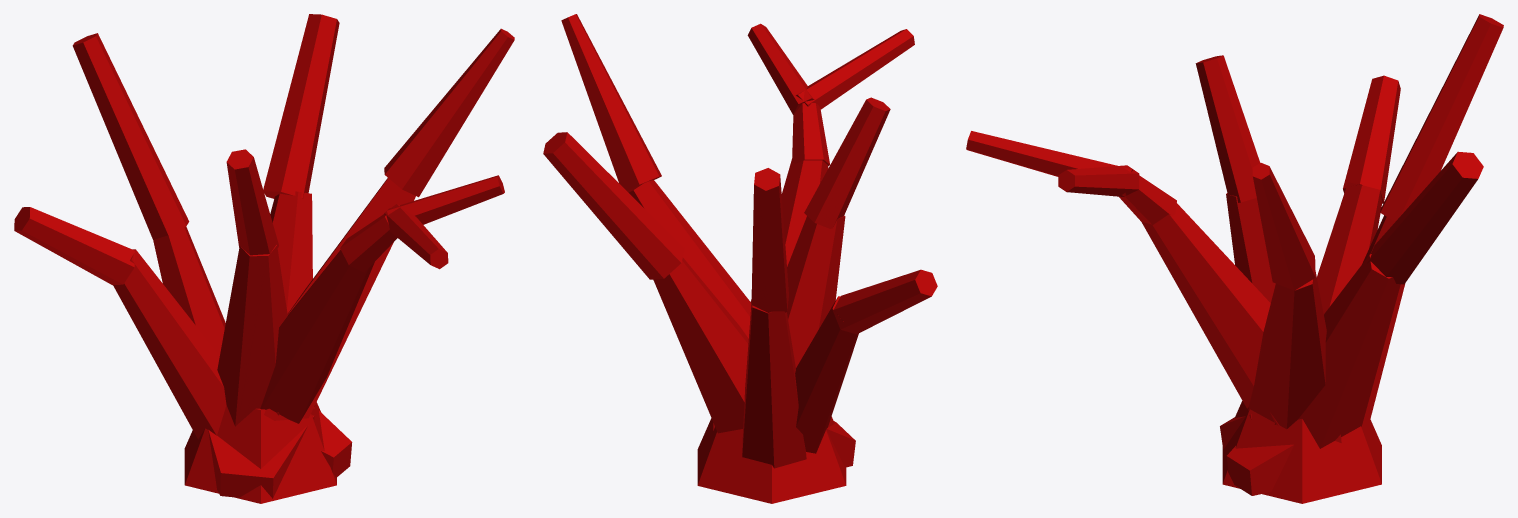
The model's file is SM_Env_Tree_Pohutukawa_02_Collision.gltf.
The picture shows the model from 3 angles, left to right: view 1: azimuth 30°, elevation 25°; view 2: azimuth 150°, elevation 25°; view 3: azimuth 270°, elevation 25°; orthographic projection. The views are drawn at different scales.
Parts seen in each view (by area): view 1: SM_Env_Tree_Pohutukawa_02_Collision; view 2: SM_Env_Tree_Pohutukawa_02_Collision; view 3: SM_Env_Tree_Pohutukawa_02_Collision.
Boxes of the visible parts, box(x1,y1,x2,y2) form: SM_Env_Tree_Pohutukawa_02_Collision: box(14, 14, 514, 503); SM_Env_Tree_Pohutukawa_02_Collision: box(543, 14, 937, 503); SM_Env_Tree_Pohutukawa_02_Collision: box(966, 14, 1503, 503).
Size of the model in its own units: 3.14 by 2.71 by 3.18.
